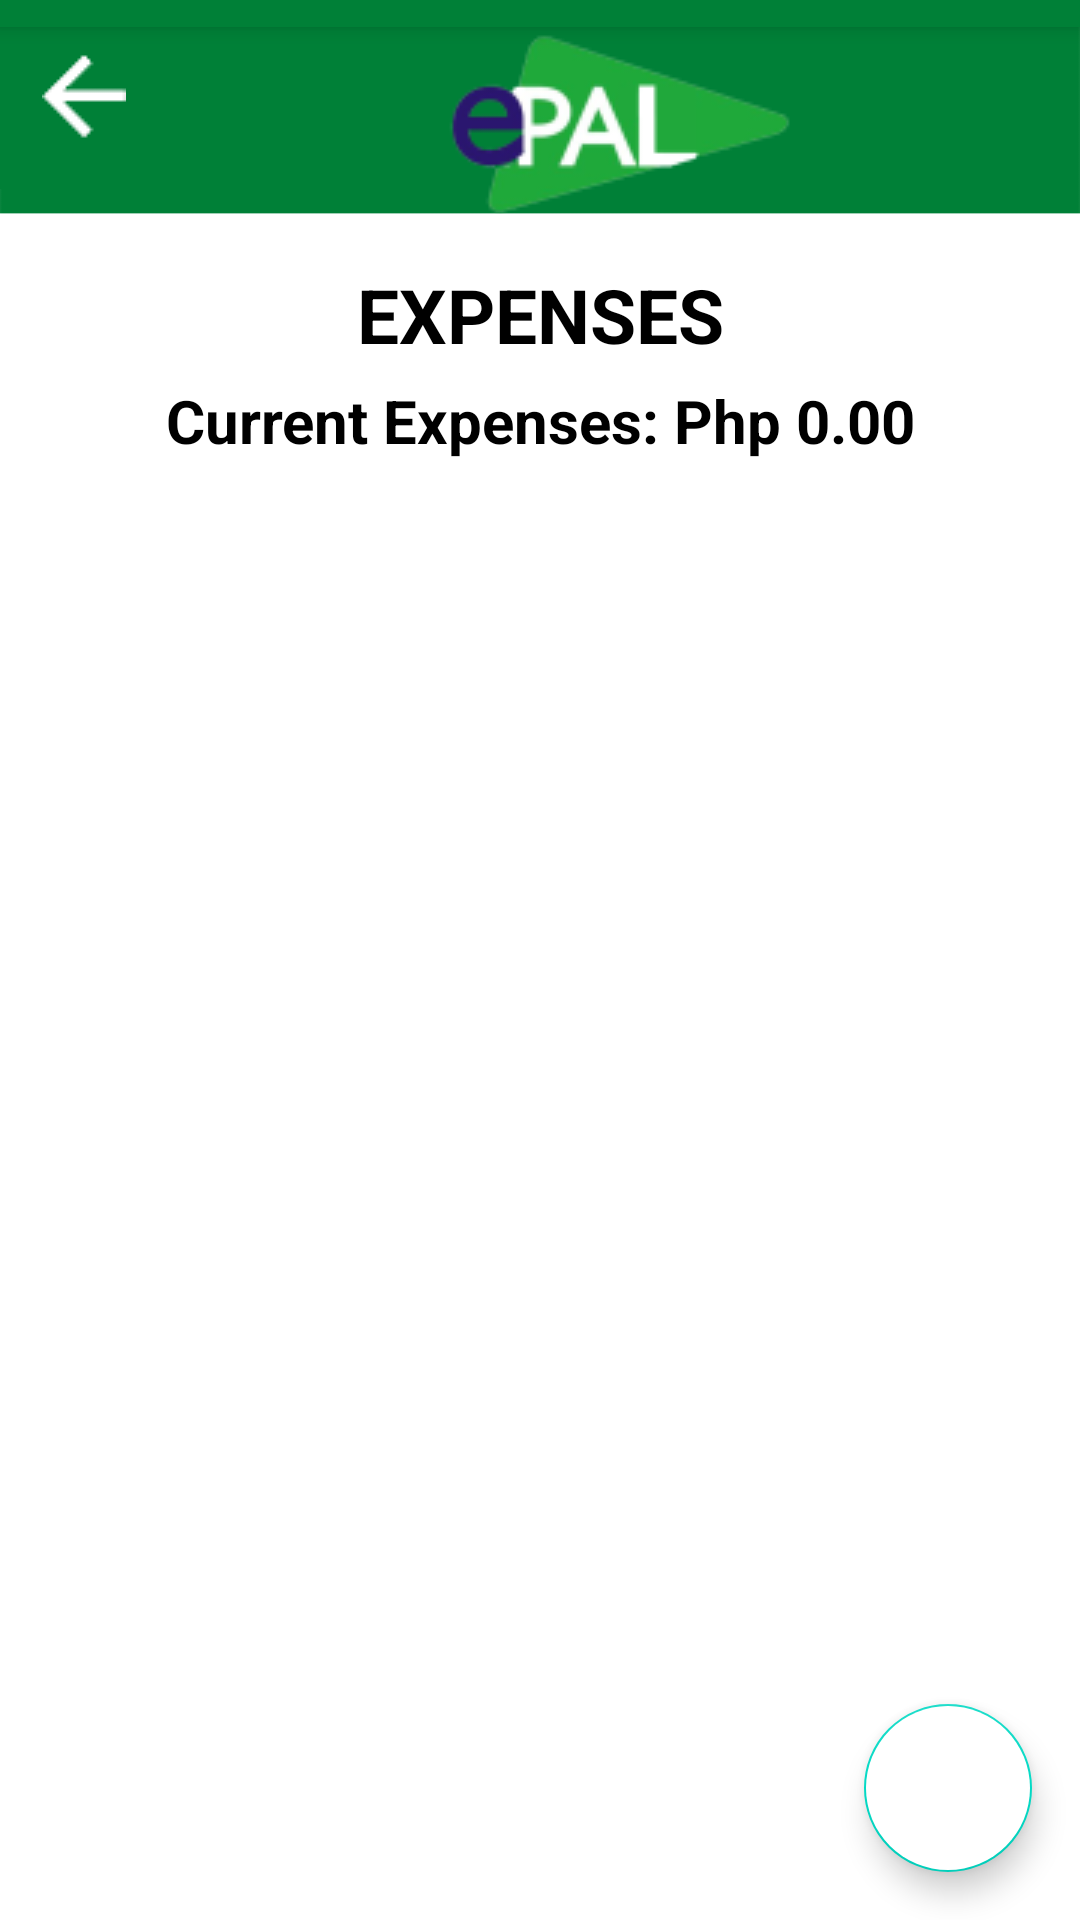

Named icons in this screenshot (1080x1920) and their centers, (x=x, y=y):
backwhitebtn: (x=84, y=96)
